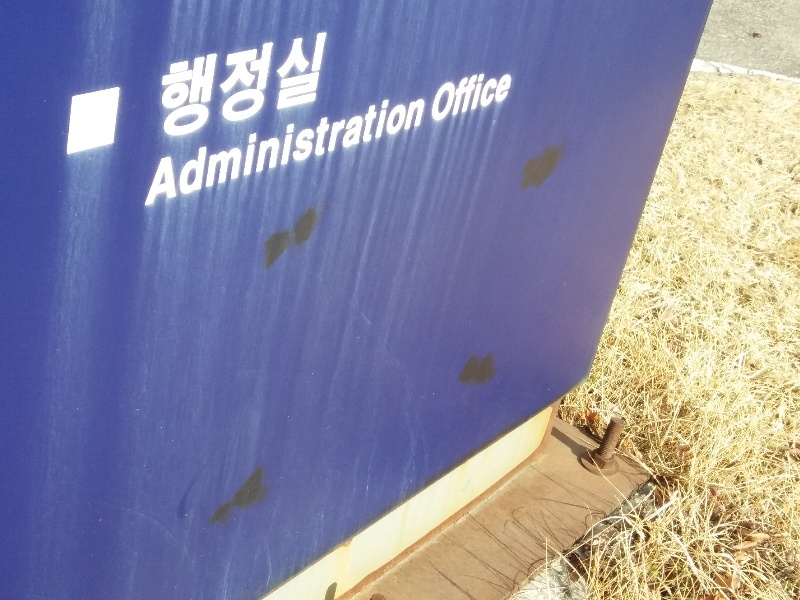text: (161, 86, 176, 214), (177, 86, 192, 214), (193, 86, 208, 214), (209, 86, 224, 214), (225, 86, 240, 214), (241, 86, 256, 214), (257, 86, 272, 214), (273, 86, 288, 214), (289, 86, 304, 214), (305, 86, 320, 214), (321, 86, 336, 214), (337, 86, 352, 214), (353, 86, 368, 214), (369, 86, 384, 214), (385, 86, 400, 214), (401, 86, 416, 214), (161, 26, 176, 148), (177, 26, 192, 148), (193, 26, 208, 148), (209, 26, 224, 148), (225, 26, 240, 148), (241, 26, 256, 148), (257, 26, 272, 148), (273, 26, 288, 148), (289, 26, 304, 148), (305, 26, 320, 148), (417, 86, 430, 214), (321, 26, 332, 148), (433, 65, 448, 126), (449, 65, 464, 126), (465, 65, 480, 126), (481, 65, 496, 126), (497, 65, 512, 126), (156, 86, 160, 214), (513, 65, 517, 126), (158, 26, 160, 148), (430, 65, 432, 126)
